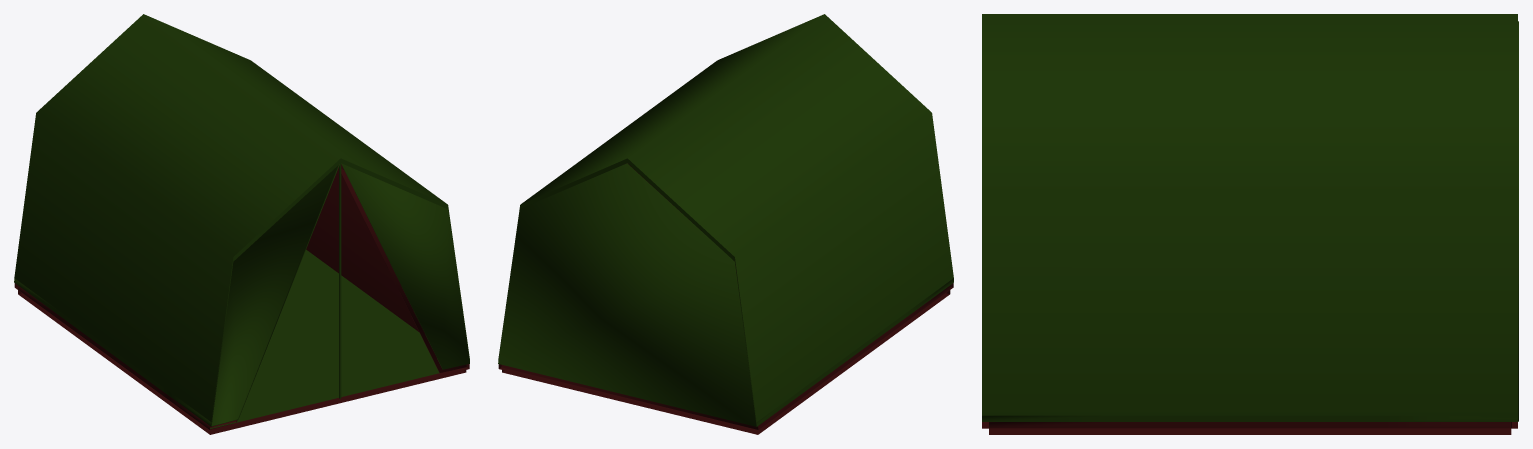
File: tent_big.fbx
The picture shows the model from 3 angles, left to right: view 1: azimuth 30°, elevation 25°; view 2: azimuth 150°, elevation 25°; view 3: azimuth 270°, elevation 25°; orthographic projection. The views are drawn at different scales.
Visible parts, largest first — view 1: covers, interior, front flap1, front flap 2, floor, rod; view 2: covers, back, interior, floor; view 3: covers, interior, floor.
Part boxes in pixels (x1,y1,x2,y2): covers: [14, 14, 469, 426]; interior: [17, 164, 466, 434]; front flap1: [341, 163, 469, 369]; front flap 2: [211, 164, 339, 426]; floor: [14, 283, 469, 431]; rod: [339, 163, 341, 398]; covers: [498, 14, 953, 426]; back: [498, 163, 756, 426]; interior: [501, 163, 950, 434]; floor: [498, 283, 953, 431]; covers: [982, 14, 1517, 421]; interior: [989, 422, 1511, 434]; floor: [982, 422, 1517, 428].
Bounding box in the file's own units: 6.37 × 5.83 × 8.43.
